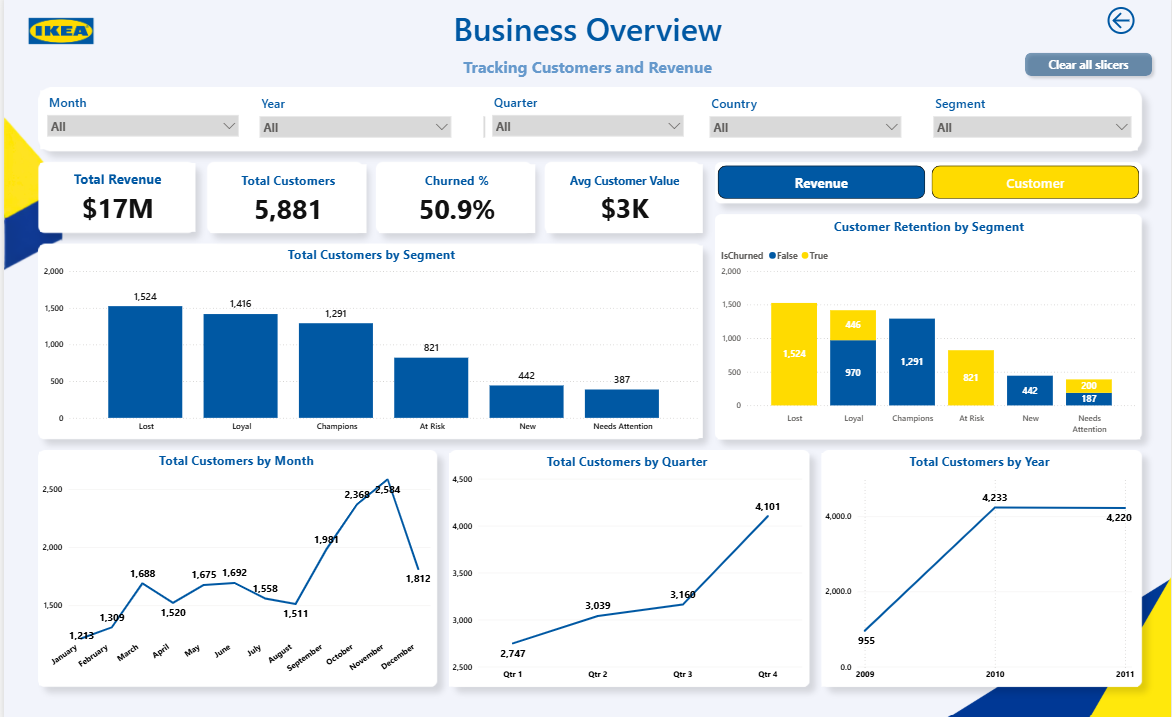

This screenshot's page, from the dashboard's own definition file:
{"tool":"powerbi","page":{"name":"Overview","canvas":[1750,1100],"ordinal":1},"visuals":[{"type":"cardVisual","fields":{"Data":["EcommerceData.Total Revenue"]},"box":[54.4,254.9,232.4,103.1],"z":0},{"type":"clusteredColumnChart","fields":{"Category":["EcommerceData.Segment"],"Y":["EcommerceData.Total Customers"]},"box":[54.4,378.6,993.5,288.7],"z":0,"group":"g1"},{"type":"cardVisual","fields":{"Data":["EcommerceData.Total Customers"]},"box":[309.3,256.8,234.3,103.1],"z":1000},{"type":"columnChart","title":"Customer Retention by Segment","fields":{"Category":["EcommerceData.Segment"],"Series":["EcommerceData.IsChurned"],"Y":["EcommerceData.Total Customers"]},"box":[1070.4,337.4,633.6,331.8],"z":1000,"group":"g1"},{"type":"cardVisual","fields":{"Data":["EcommerceData.Churned %"]},"box":[562.4,256.8,234.3,103.1],"z":2000},{"type":"lineChart","fields":{"Category":["EcommerceData.InvoiceDate.Variation.Date Hierarchy.Month"],"Y":["EcommerceData.Total Customers"]},"box":[52.5,687.9,592.4,350.5],"z":2000,"group":"g1"},{"type":"cardVisual","fields":{"Data":["EcommerceData.Average Customer Value"]},"box":[813.6,256.8,234.3,103.1],"z":3000},{"type":"lineChart","fields":{"Category":["EcommerceData.InvoiceDate.Variation.Date Hierarchy.Quarter"],"Y":["EcommerceData.Total Customers"]},"box":[667.4,689.8,534.3,350.5],"z":3000,"group":"g1"},{"type":"slicer","fields":{"Values":["EcommerceData.InvoiceDate.Variation.Date Hierarchy.Month"]},"box":[54.4,146.2,307.4,88.1],"z":4000},{"type":"lineChart","fields":{"Category":["EcommerceData.InvoiceDate.Variation.Date Hierarchy.Year"],"Y":["EcommerceData.Total Customers"]},"box":[1226,689.8,474.3,350.5],"z":4000,"group":"g1"},{"type":"slicer","fields":{"Values":["EcommerceData.InvoiceDate.Variation.Date Hierarchy.Year"]},"box":[373,148.1,307.4,88.1],"z":5000},{"type":"slicer","fields":{"Values":["EcommerceData.InvoiceDate.Variation.Date Hierarchy.Month"]},"box":[708.6,148.1,307.4,88.1],"z":6000},{"type":"slicer","fields":{"Values":["EcommerceData.InvoiceDate.Variation.Date Hierarchy.Quarter"]},"box":[721.7,146.2,307.4,88.1],"z":7000},{"type":"slicer","fields":{"Values":["EcommerceData.Country"]},"box":[1047.9,148.1,307.4,88.1],"z":8000},{"type":"slicer","fields":{"Values":["EcommerceData.Segment"]},"box":[1383.4,148.1,316.8,88.1],"z":9000},{"type":"group","id":"g1","title":"Customer","box":[52.5,337.4,1651.5,703],"z":10000},{"type":"image","box":[0,15,170.6,84.4],"z":12000},{"type":"textbox","box":[578.8,15,592.4,103.1],"z":13000},{"type":"textbox","box":[578.8,90,592.4,58.1],"z":14000},{"type":"actionButton","box":[1617.8,15,114.3,52.5],"z":15000},{"type":"actionButton","box":[1522.9,80,208.6,52.9],"z":16000},{"type":"bookmarkNavigator","box":[1070.4,258.7,633.6,50.6],"z":17000}]}

Visuals, with their boxes in screenshot pixels (x1, y1, x2, y2), scaled from the page's 1750x1100 canvas onto the 1172x717 screenshot:
cardVisual - EcommerceData.Total Revenue: (x1=36, y1=166, x2=192, y2=233)
clusteredColumnChart - EcommerceData.Segment x EcommerceData.Total Customers: (x1=36, y1=247, x2=702, y2=435)
cardVisual - EcommerceData.Total Customers: (x1=207, y1=167, x2=364, y2=235)
"Customer Retention by Segment" columnChart: (x1=717, y1=220, x2=1141, y2=436)
cardVisual - EcommerceData.Churned %: (x1=377, y1=167, x2=534, y2=235)
lineChart - EcommerceData.InvoiceDate.Variation.Date Hierarchy.Month x EcommerceData.Total Customers: (x1=35, y1=448, x2=432, y2=677)
cardVisual - EcommerceData.Average Customer Value: (x1=545, y1=167, x2=702, y2=235)
lineChart - EcommerceData.InvoiceDate.Variation.Date Hierarchy.Quarter x EcommerceData.Total Customers: (x1=447, y1=450, x2=805, y2=678)
slicer - EcommerceData.InvoiceDate.Variation.Date Hierarchy.Month: (x1=36, y1=95, x2=242, y2=153)
lineChart - EcommerceData.InvoiceDate.Variation.Date Hierarchy.Year x EcommerceData.Total Customers: (x1=821, y1=450, x2=1139, y2=678)
slicer - EcommerceData.InvoiceDate.Variation.Date Hierarchy.Year: (x1=250, y1=97, x2=456, y2=154)
slicer - EcommerceData.InvoiceDate.Variation.Date Hierarchy.Month: (x1=475, y1=97, x2=680, y2=154)
slicer - EcommerceData.InvoiceDate.Variation.Date Hierarchy.Quarter: (x1=483, y1=95, x2=689, y2=153)
slicer - EcommerceData.Country: (x1=702, y1=97, x2=908, y2=154)
slicer - EcommerceData.Segment: (x1=926, y1=97, x2=1139, y2=154)
"Customer" group: (x1=35, y1=220, x2=1141, y2=678)
image: (x1=0, y1=10, x2=114, y2=65)
textbox: (x1=388, y1=10, x2=784, y2=77)
textbox: (x1=388, y1=59, x2=784, y2=97)
actionButton: (x1=1083, y1=10, x2=1160, y2=44)
actionButton: (x1=1020, y1=52, x2=1160, y2=87)
bookmarkNavigator: (x1=717, y1=169, x2=1141, y2=202)
